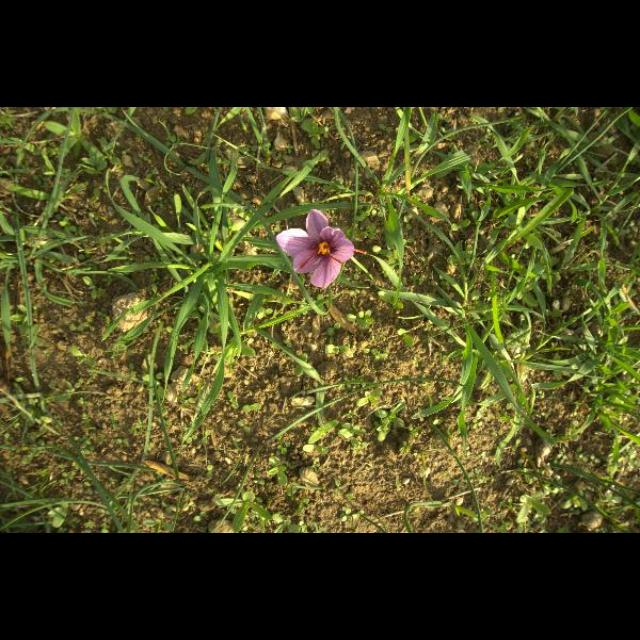flower: (275, 210, 369, 288)
